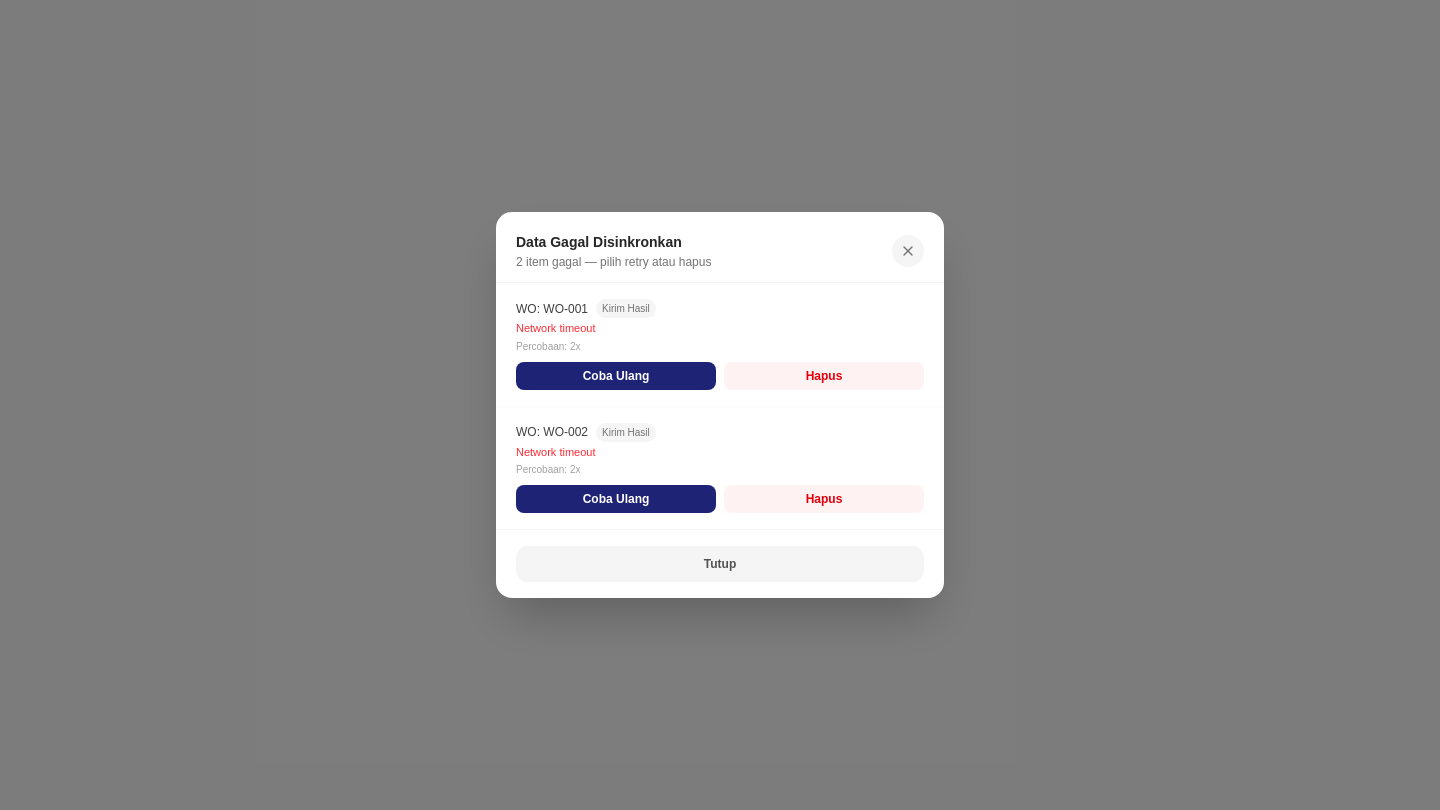
Test case: PendingItemsModal › confirms only the clicked item, not others
The image size is (1440, 810).
Click the button "Hapus" below "WO-001" at point(824, 376), box [724,362,924,390]
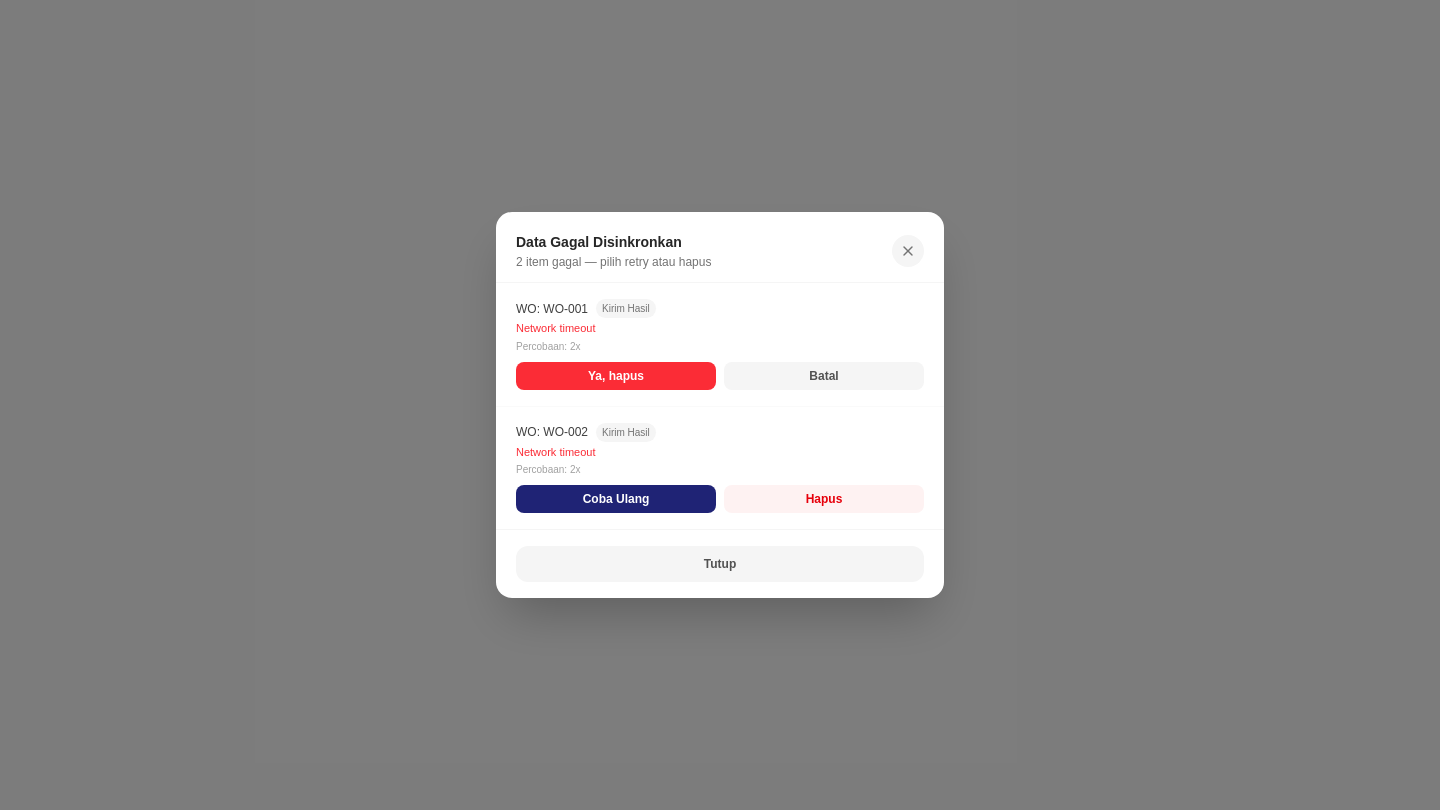
expect the number of buttons "Coba Ulang" is 1: met, box [516,485,716,513]
expect the button "Ya, hapus" is shown: met, box [516,362,716,390]
